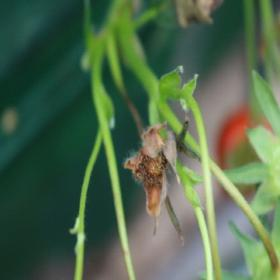Gray Mold: (122, 120, 180, 238)
